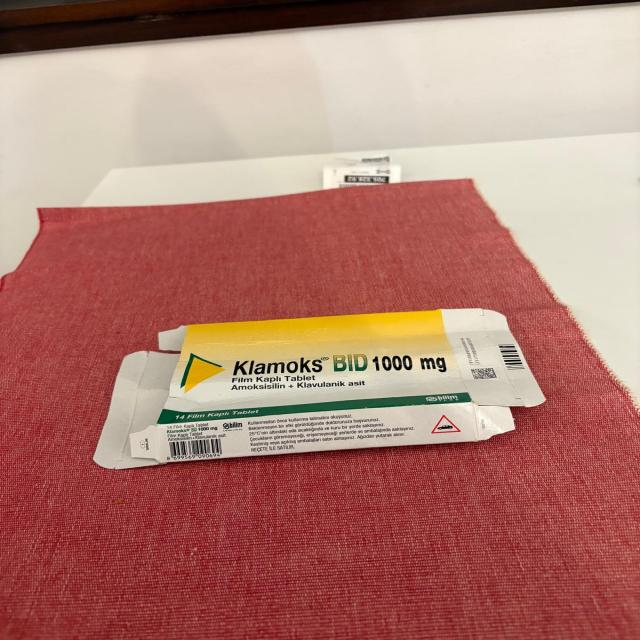damaged_package: (93, 308, 546, 470)
